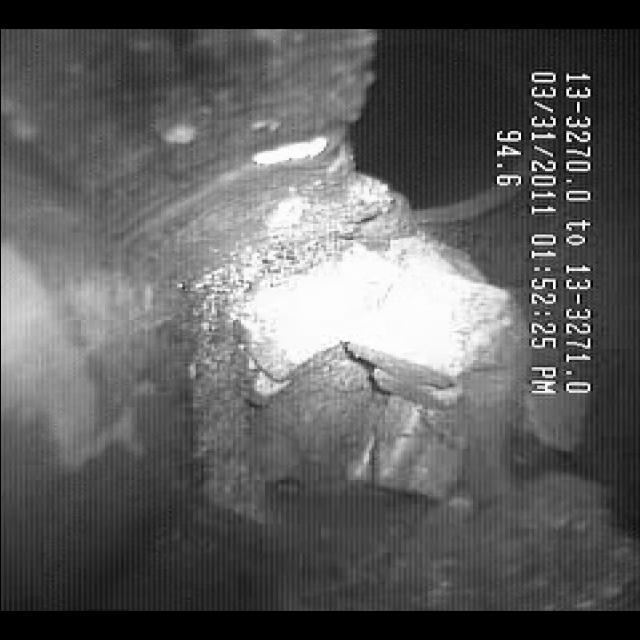Fracture: (184, 331, 488, 488)
